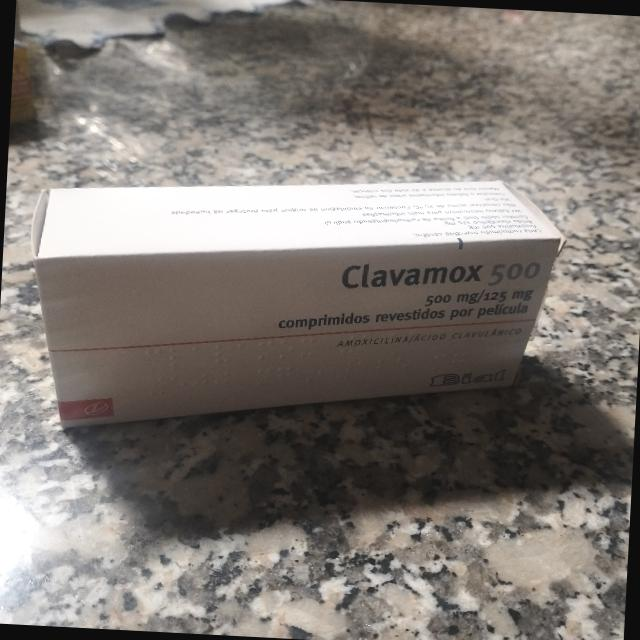caixa: (18, 154, 572, 456)
